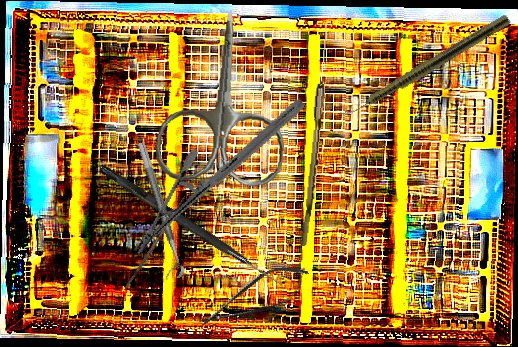Fixation Ring: (125, 141, 187, 282)
Handpiece: (335, 11, 512, 126)
Hook Surgical: (97, 164, 287, 289)
Iris Scissors: (153, 3, 296, 190)
Micro Scissor: (191, 254, 317, 342)
Needle Holder: (132, 63, 306, 290)
Surgical Spoon: (301, 24, 331, 248), (124, 194, 187, 291)
